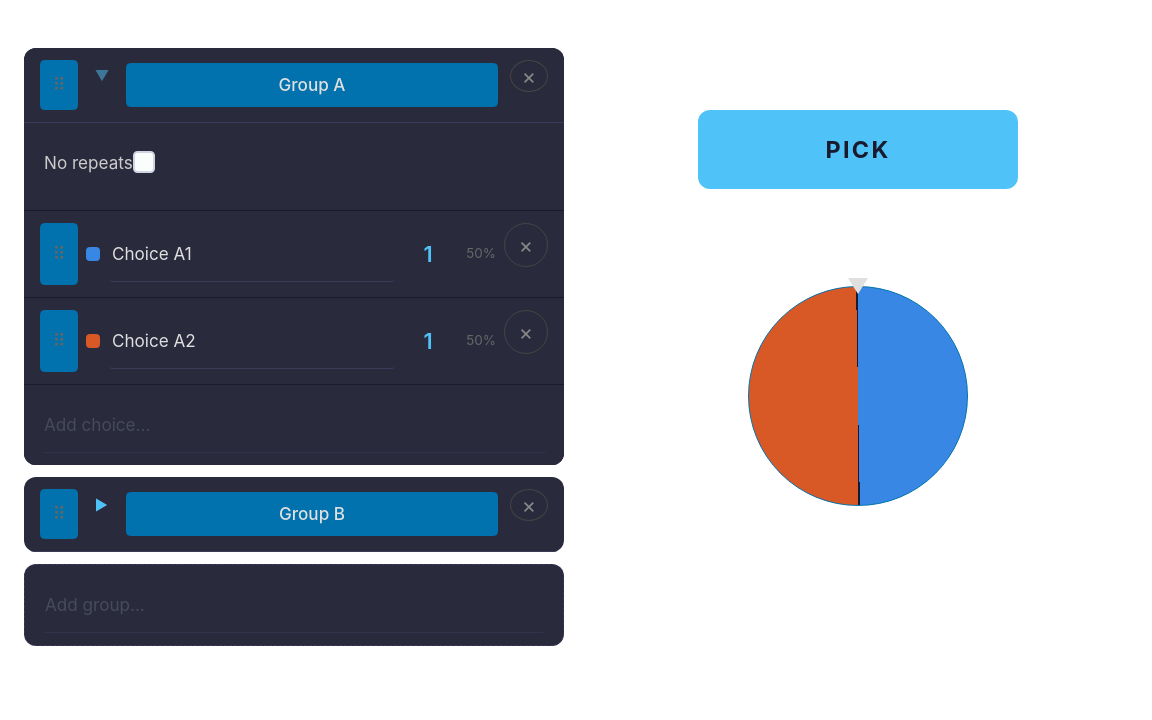
Test: WeightedChoices grouped structure › Per-group choice operations › shows only the expanded group history when switching groups
Click the button "PICK". click: click(858, 150)
box: [698, 110, 1018, 189]
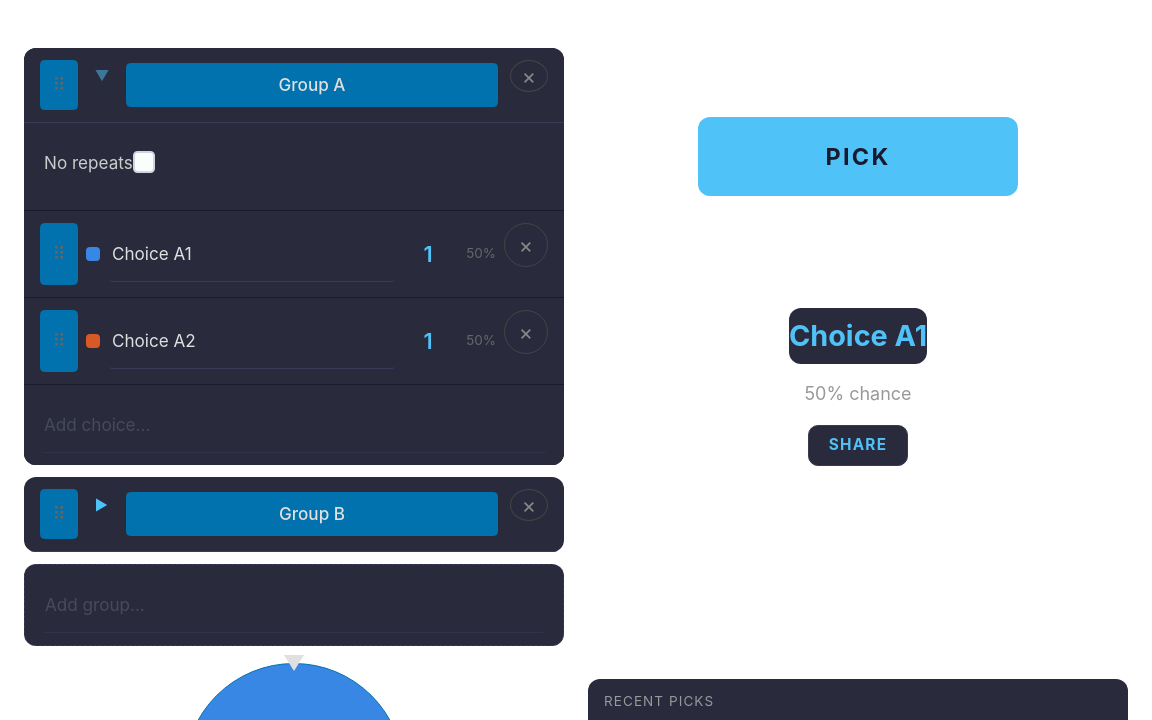
Check: the text "Recent picks" is shown, box [604, 693, 714, 709]
Click the 2nd button labelled "▼". click: click(102, 505)
box: [90, 493, 114, 517]
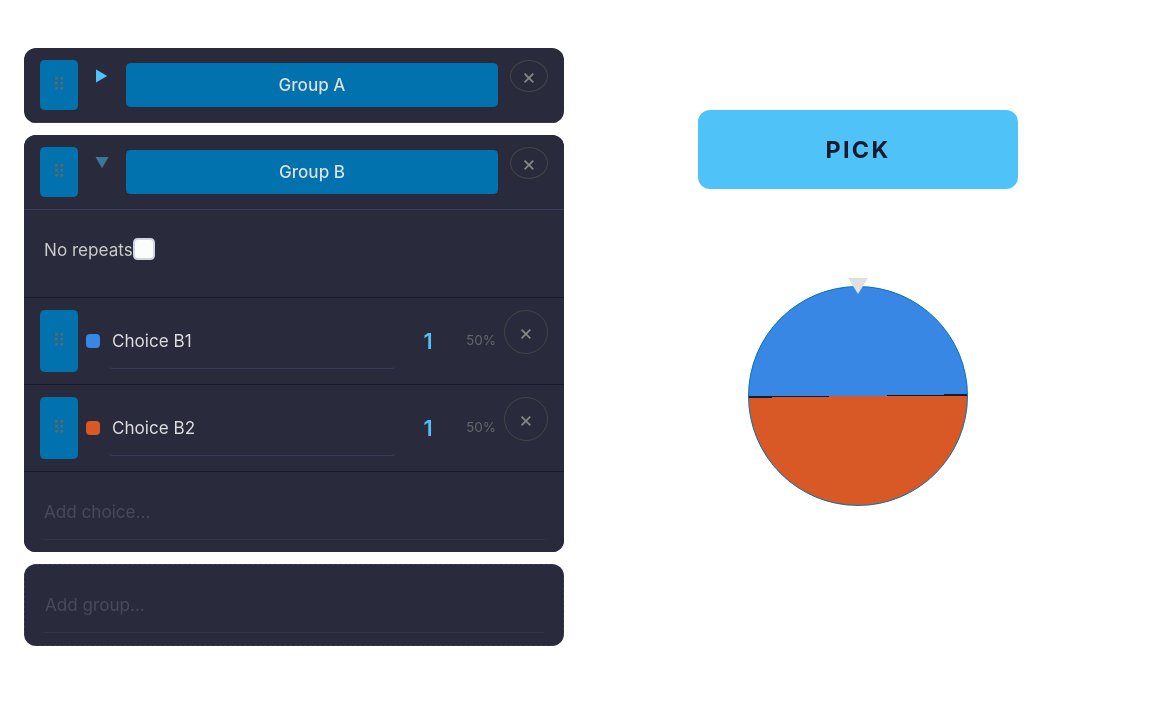
Check: the text "Recent picks" is gone
